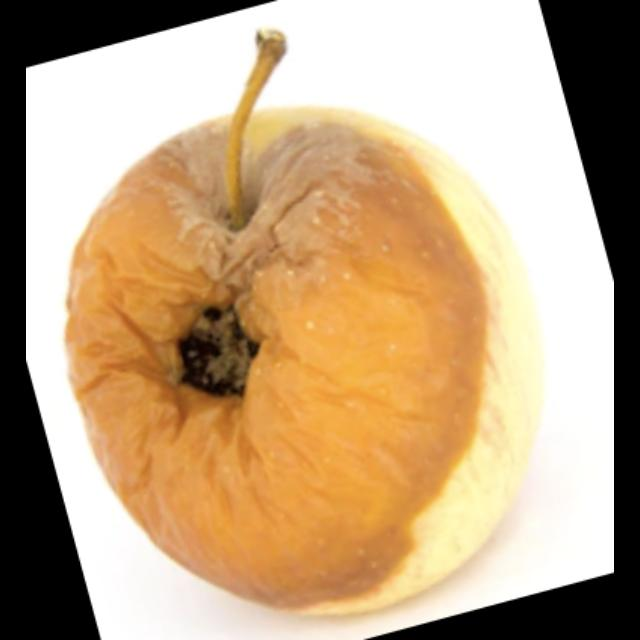Apel Tidak Segar: (64, 120, 514, 620)
